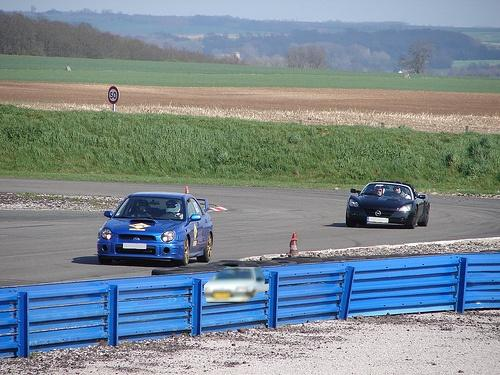tampered: (205, 268, 269, 303)
